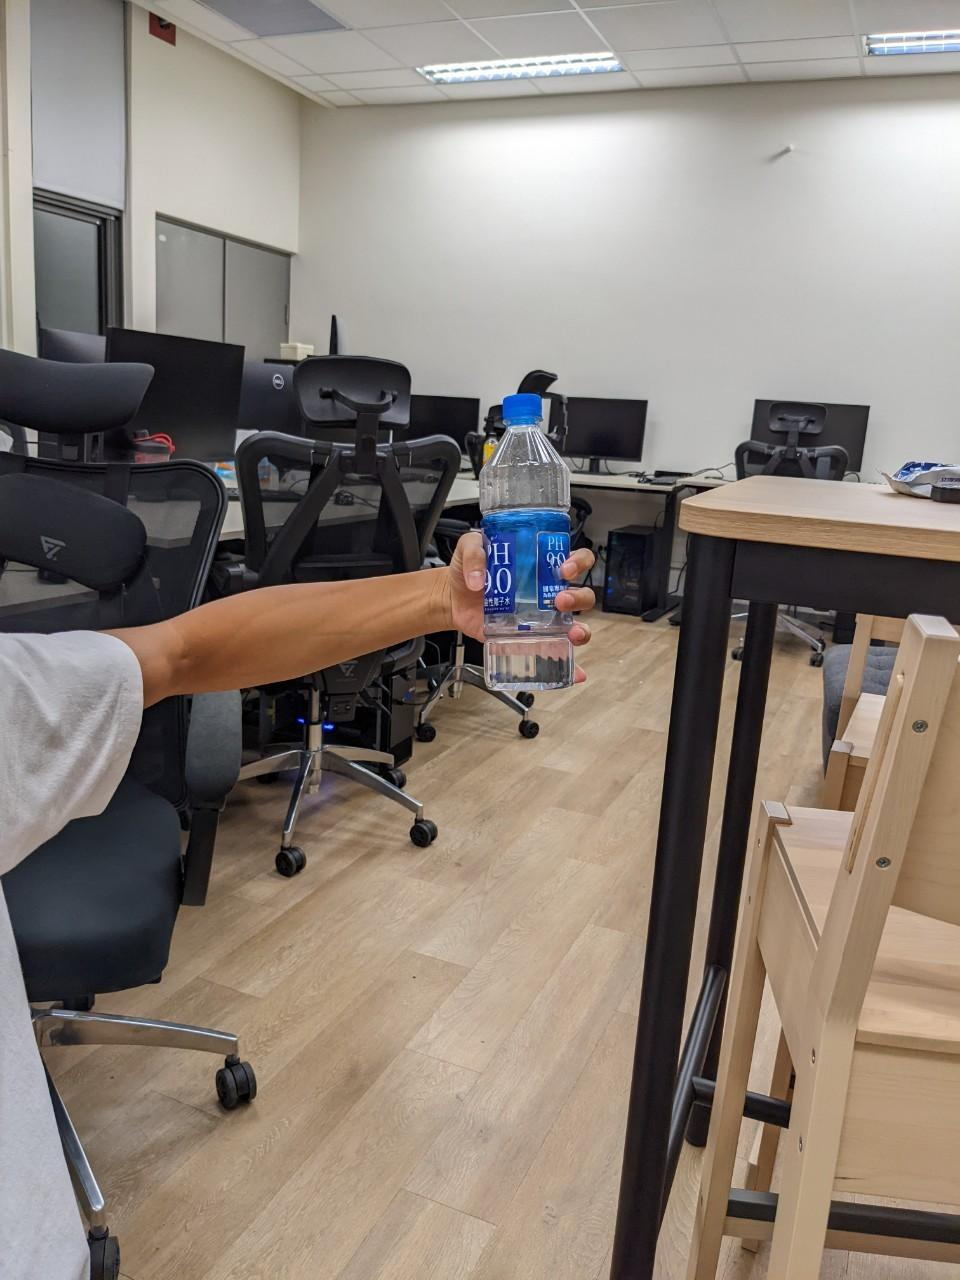BIODEGRADABLE: (465, 372, 583, 700)
